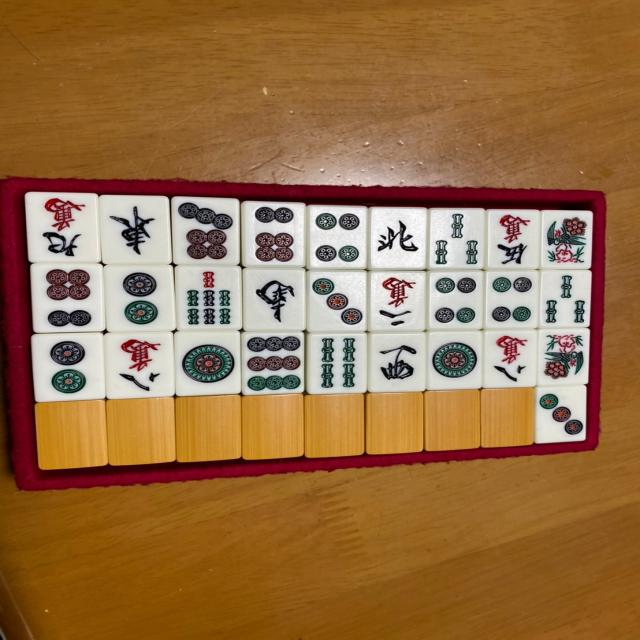bamboos_1: (538, 208, 592, 270), (536, 327, 590, 387)
bamboos_3: (427, 207, 486, 271), (536, 268, 590, 328)
bamboos_4: (303, 331, 369, 394)
bamboos_7: (174, 265, 242, 332)
characters_2: (366, 268, 428, 332)
characters_5: (484, 208, 542, 269)
characters_8: (104, 330, 174, 399), (483, 327, 540, 389)
characters_9: (24, 192, 102, 264)
circles_1: (173, 329, 242, 396), (426, 330, 483, 390)
circles_2: (30, 330, 105, 403), (103, 264, 179, 331)
circles_3: (307, 269, 367, 334), (533, 384, 588, 444)
circles_4: (307, 203, 366, 270), (480, 269, 539, 330), (427, 270, 486, 330)
circles_6: (28, 262, 104, 333), (240, 199, 308, 268)
circles_7: (171, 195, 240, 267)
circles_9: (239, 332, 306, 396)
east: (97, 193, 171, 265)
north: (368, 206, 428, 270)
south: (243, 266, 306, 332)
west: (367, 332, 428, 392)
